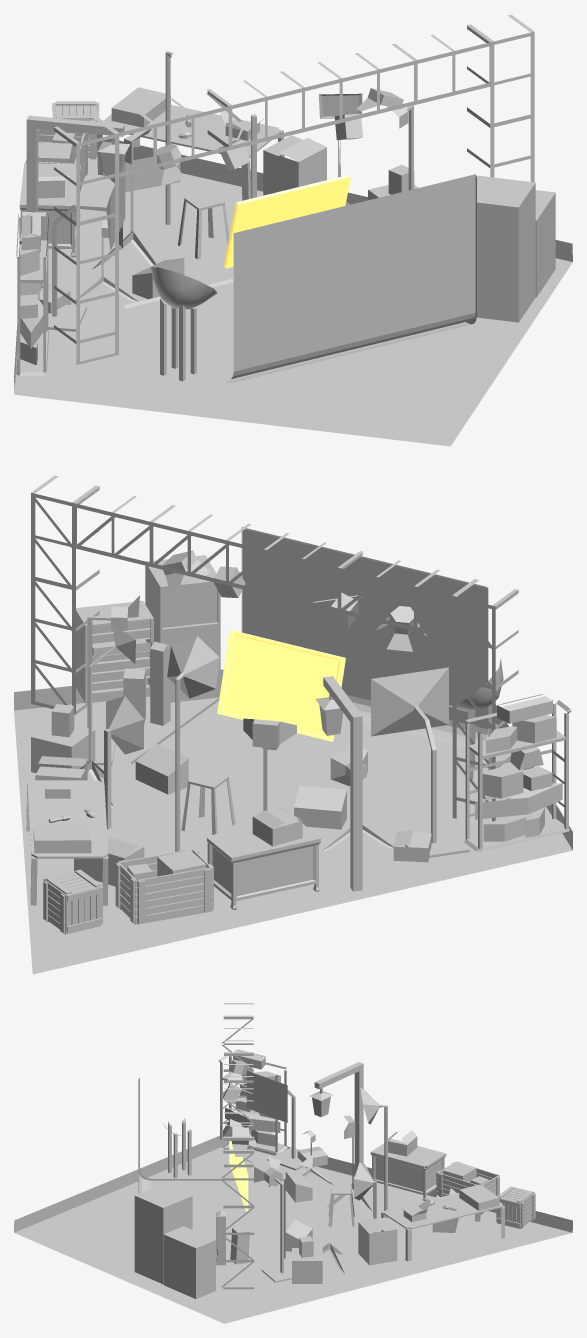
The model's file is lumiere.glb.
3 views of the same model, one above another, from view 1: azimuth 30°, elevation 25°; view 2: azimuth 150°, elevation 25°; view 3: azimuth 270°, elevation 25° (orthographic). The views are drawn at different scales.
Visible parts, largest first — view 1: base.001, Cube.004, Cube.010, Cube.006, Tableau, Table, Cube.007, Cube.003, Cube.012, Cube.008, Cube.005, Etagere (+23 smaller); view 2: Cube.004, base.001, Tableau, Cube.005, Cube.014, Cube.010, Caisse en Vrac.002, Cube.239, Cube.006, Table, Cube.008, Etagere (+34 smaller); view 3: base.001, Cube.004, Cube.010, Cube.239, Cube.005, Cube.014, Table, Cube.012, Cube.003, Caisse en Vrac.006, Cube.008, Caisse en Vrac.002 (+21 smaller).
Boxes of the visible parts, <box> form: base.001: <box>14,138,572,446</box>; Cube.004: <box>124,174,476,383</box>; Cube.010: <box>476,175,535,322</box>; Cube.006: <box>206,26,490,150</box>; Tableau: <box>224,175,350,268</box>; Table: <box>97,105,284,200</box>; Cube.007: <box>54,117,118,364</box>; Cube.003: <box>263,135,326,195</box>; Cube.012: <box>26,115,129,236</box>; Cube.008: <box>467,14,534,182</box>; Cube.005: <box>19,163,80,257</box>; Etagere: <box>16,212,49,376</box>; Cube.004: <box>130,527,488,824</box>; base.001: <box>14,669,572,974</box>; Tableau: <box>217,630,345,741</box>; Cube.005: <box>207,817,320,909</box>; Cube.014: <box>371,667,469,857</box>; Cube.010: <box>145,555,220,702</box>; Caisse en Vrac.002: <box>115,849,213,924</box>; Cube.239: <box>76,601,153,703</box>; Cube.006: <box>76,487,362,612</box>; Table: <box>26,780,108,905</box>; Cube.008: <box>31,475,99,714</box>; Etagere: <box>464,699,571,851</box>; base.001: <box>14,1135,572,1323</box>; Cube.004: <box>138,1078,285,1258</box>; Cube.010: <box>134,1183,192,1284</box>; Cube.239: <box>163,1226,217,1298</box>; Cube.005: <box>370,1138,446,1200</box>; Cube.014: <box>246,1071,304,1170</box>; Table: <box>381,1193,505,1261</box>; Cube.012: <box>309,1062,363,1176</box>; Cube.003: <box>358,1217,397,1265</box>; Caisse en Vrac.006: <box>496,1186,535,1228</box>; Cube.008: <box>221,1136,254,1289</box>; Caisse en Vrac.002: <box>436,1161,499,1214</box>.
Bounding box in the file's own units: 15.76 × 6.53 × 20.68.
